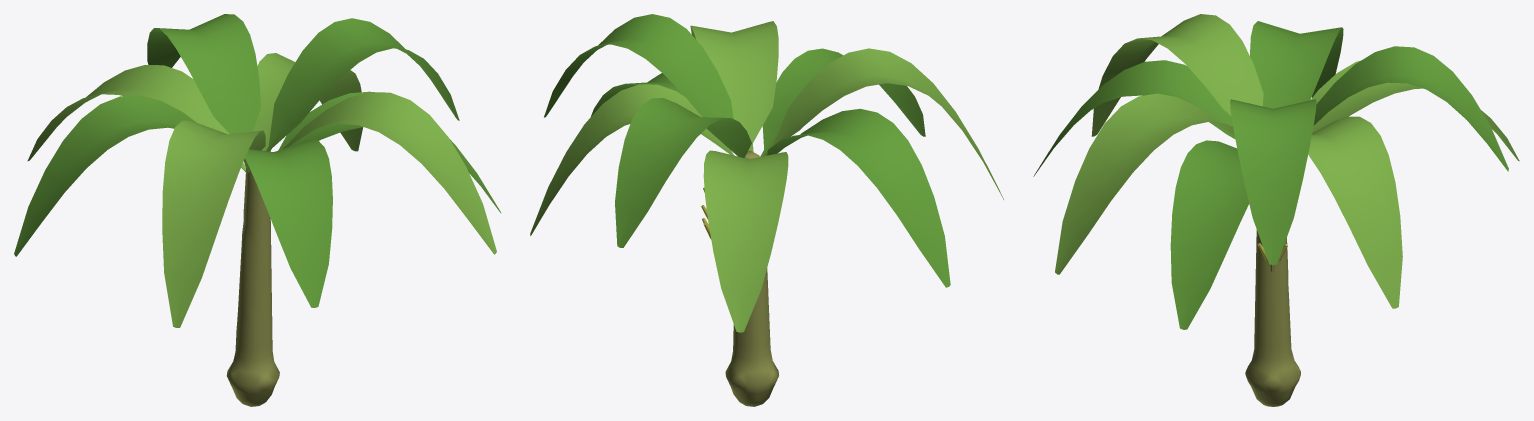
File: banana.glb
3 views of the same model, side by side, from view 1: azimuth 30°, elevation 25°; view 2: azimuth 150°, elevation 25°; view 3: azimuth 270°, elevation 25° (orthographic). The views are drawn at different scales.
Visible parts, largest first — view 1: leaf_1, leaf2_2, stem_0; view 2: leaf_1, leaf2_2, stem_0; view 3: leaf_1, leaf2_2, stem_0.
Boxes of the visible parts, <box> form: leaf_1: <box>14,14,501,307</box>; leaf2_2: <box>27,53,496,327</box>; stem_0: <box>226,168,279,406</box>; leaf_1: <box>544,14,950,287</box>; leaf2_2: <box>530,21,1003,332</box>; stem_0: <box>725,150,778,406</box>; leaf_1: <box>1033,21,1508,329</box>; leaf2_2: <box>1055,14,1519,308</box>; stem_0: <box>1245,230,1300,406</box>.
Bounding box in the file's own units: 3.62 × 2.8 × 3.48.
